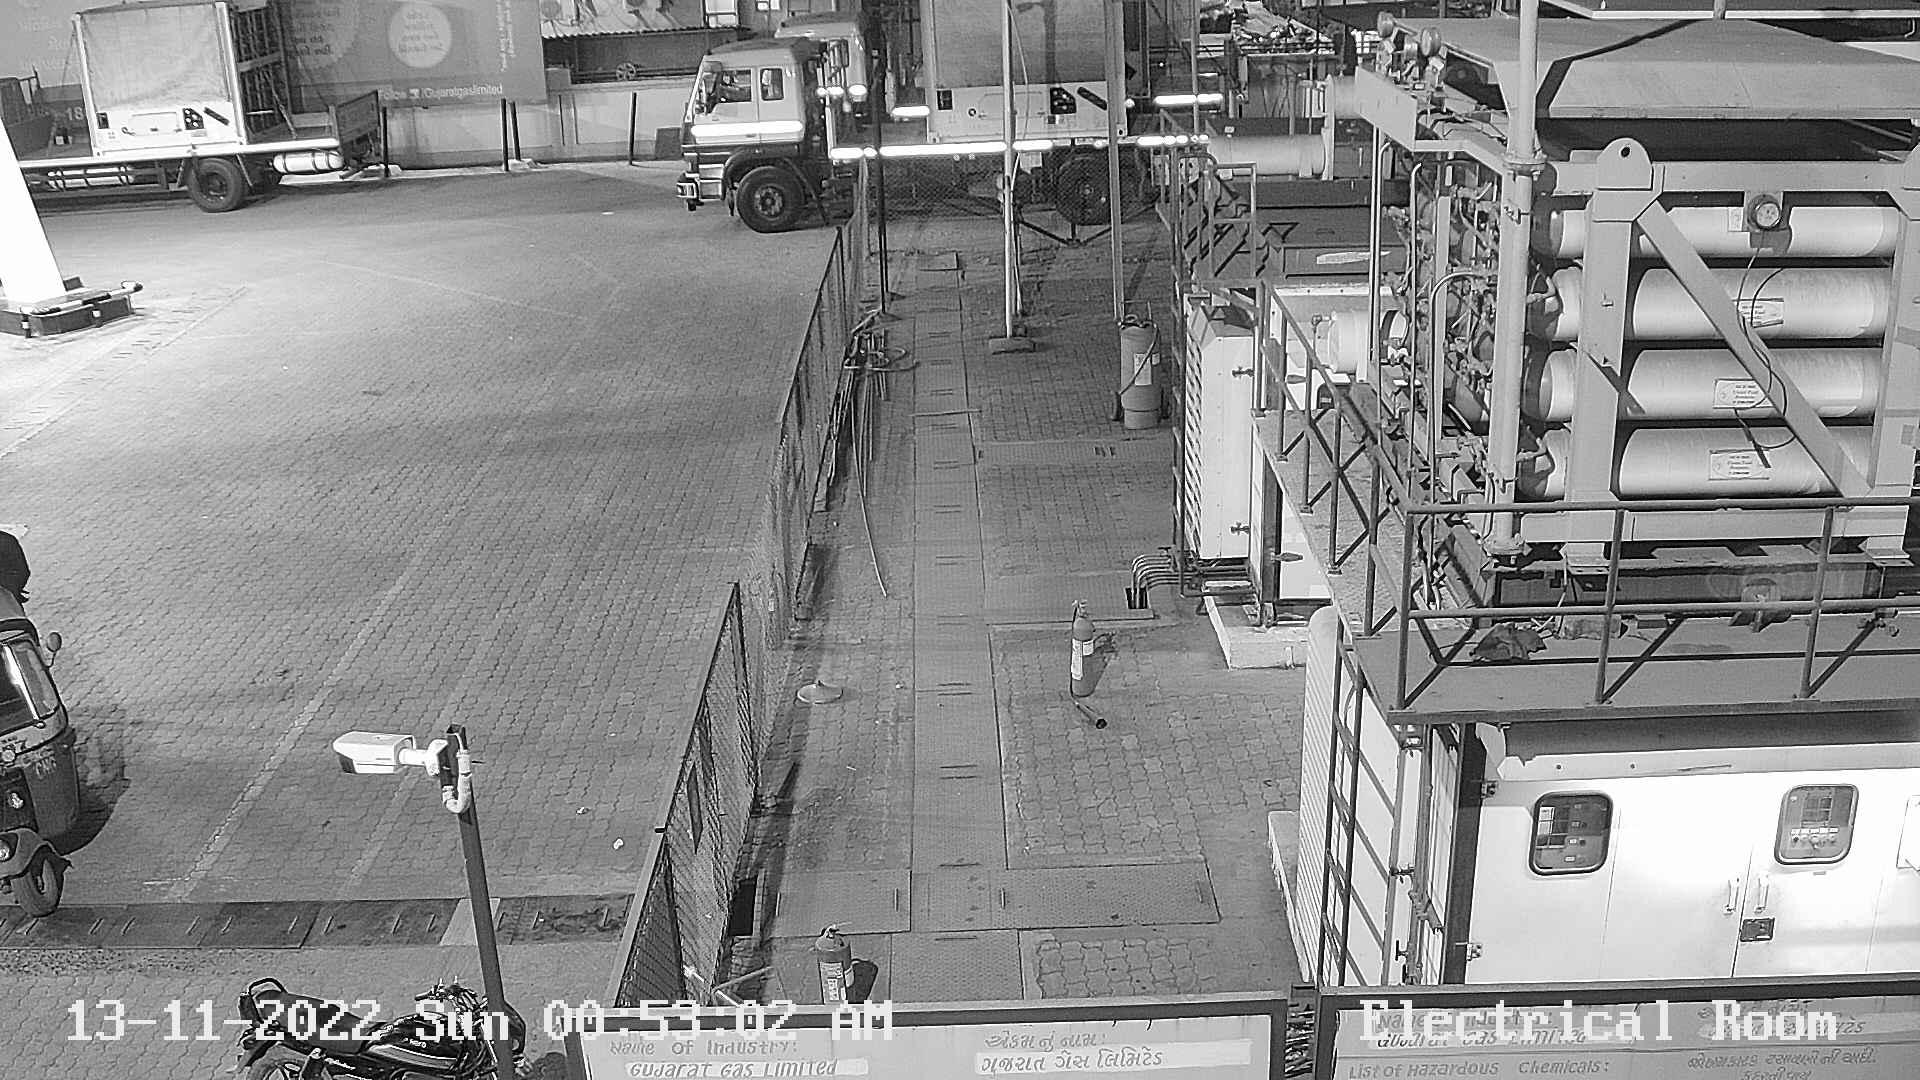Auto: (0, 407, 102, 967)
Bike: (220, 965, 582, 1073)
HMV: (670, 0, 1217, 236), (3, 5, 386, 219), (762, 0, 1262, 137)
